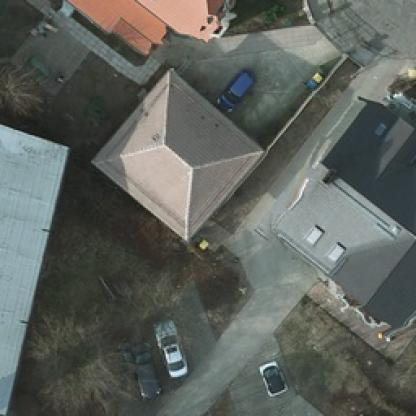car: (151, 320, 187, 377), (216, 66, 252, 112), (130, 344, 156, 398), (255, 357, 286, 395)
